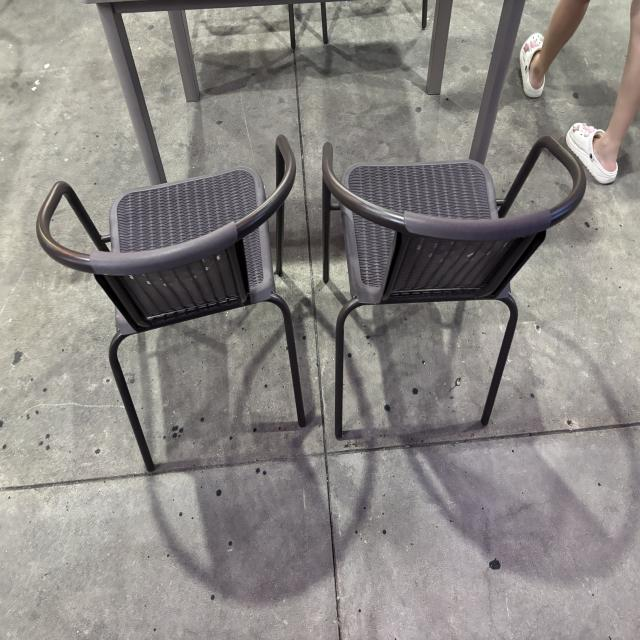Chair: (23, 133, 314, 484), (314, 128, 591, 452)
